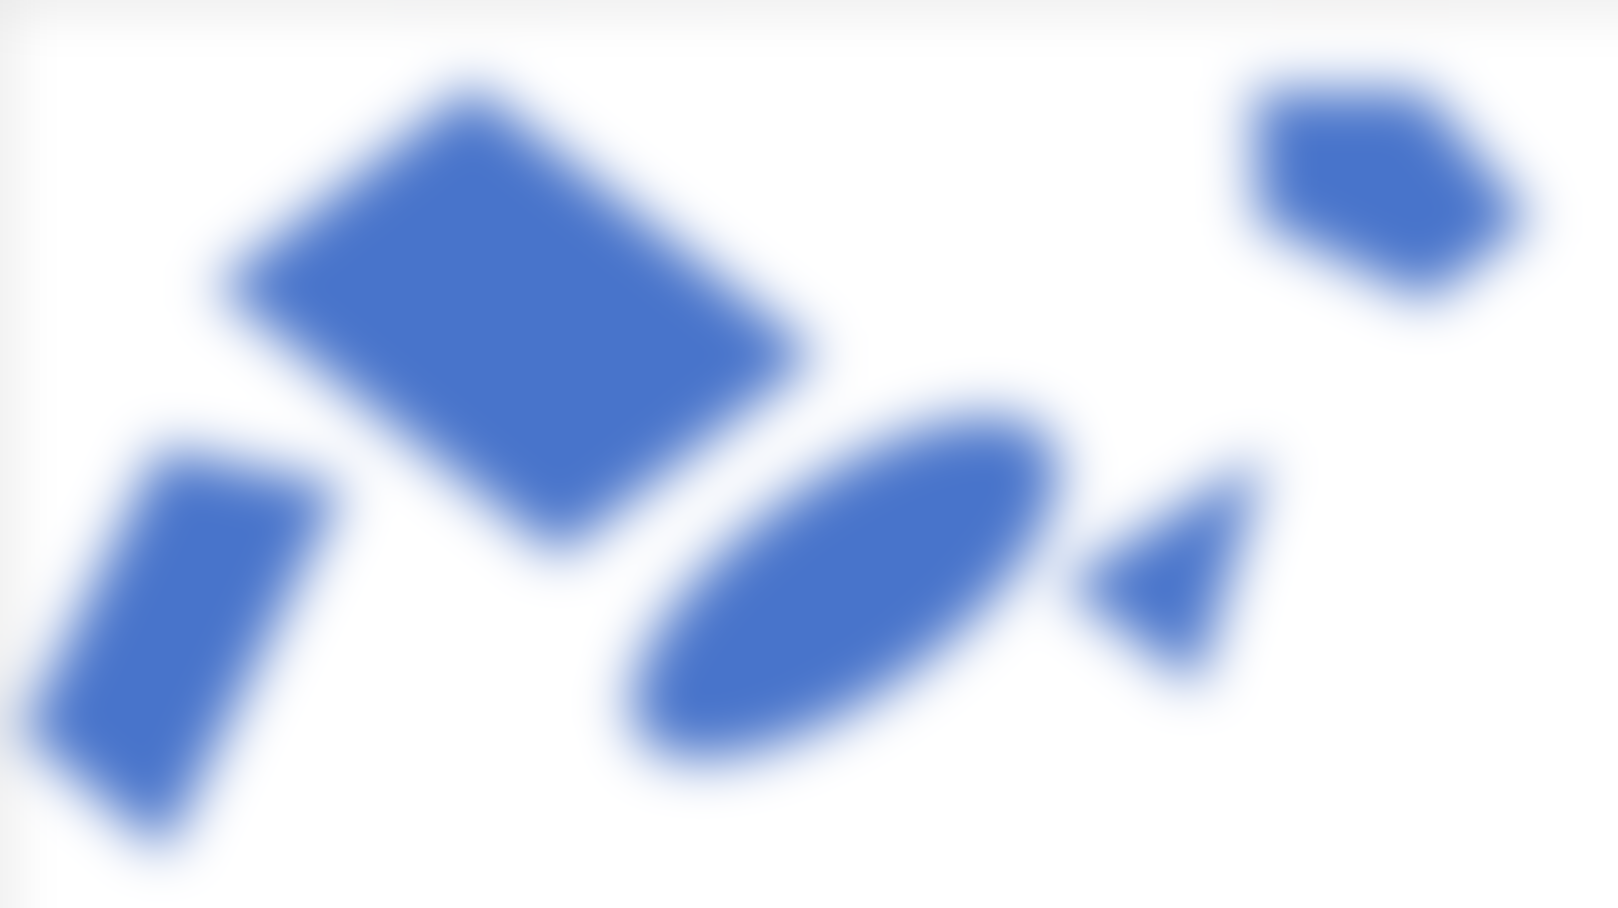circle: (605, 388, 1082, 760)
parallelogram: (199, 77, 836, 545)
pentagon: (1208, 30, 1529, 305)
trapezium: (23, 410, 357, 858)
triangle: (1063, 460, 1315, 705)
